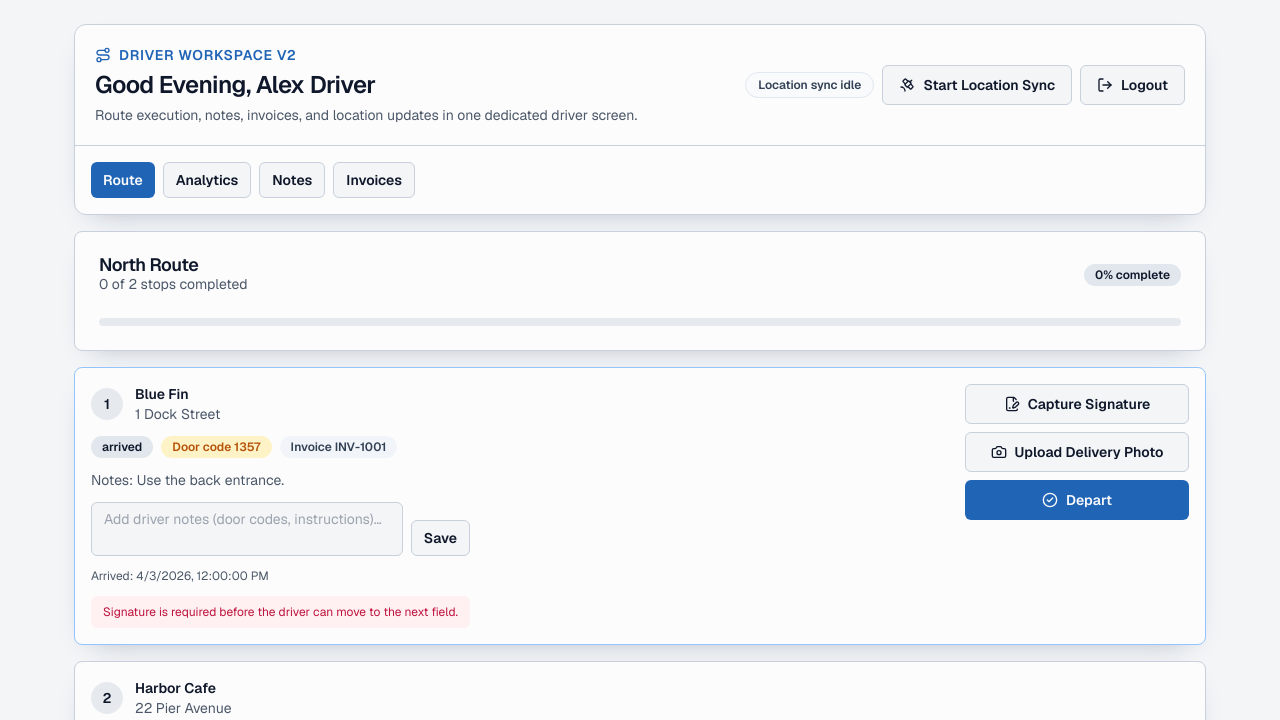
Test: DriverPage › requires a signature before departure when company settings enforce it
Expected: the heading "North Route" is shown, [99, 253, 198, 276]
Click the button "Depart" at (1077, 500), box [965, 480, 1189, 520]
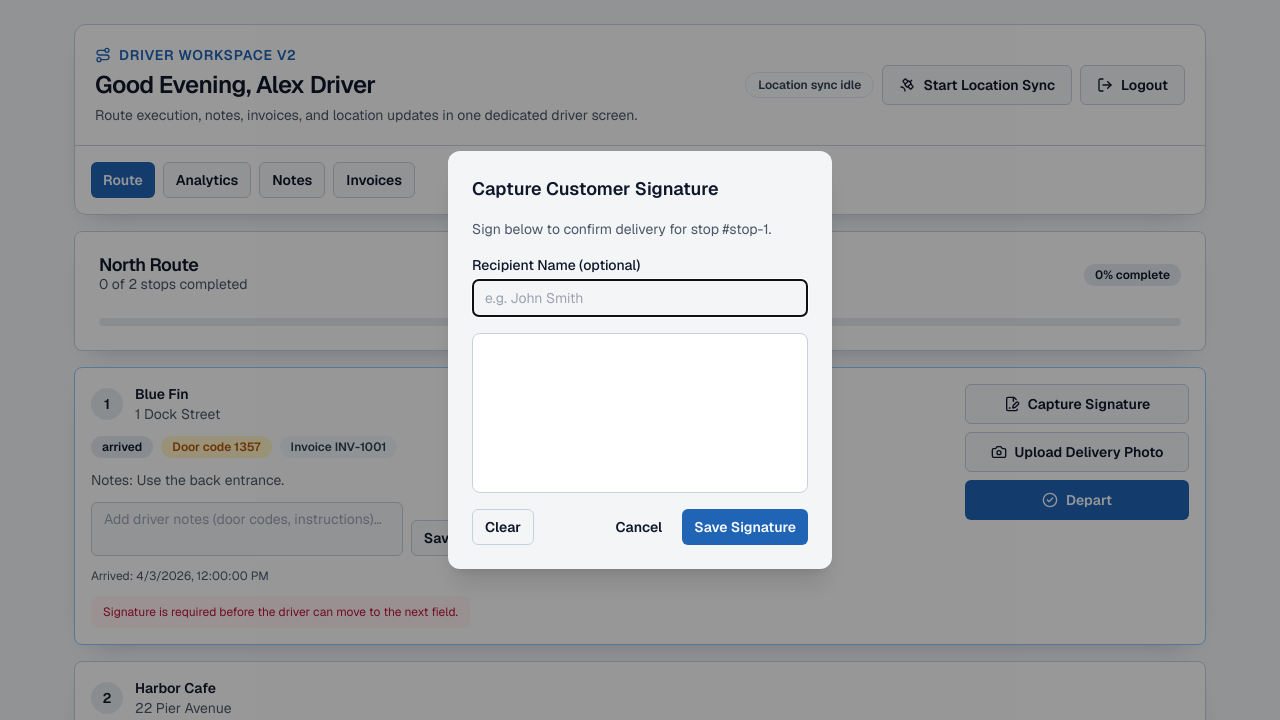
Expected: the heading "Capture Customer Signature" is shown, [472, 177, 719, 200]
Click the button "Save Signature" at (745, 527), box [682, 509, 808, 545]
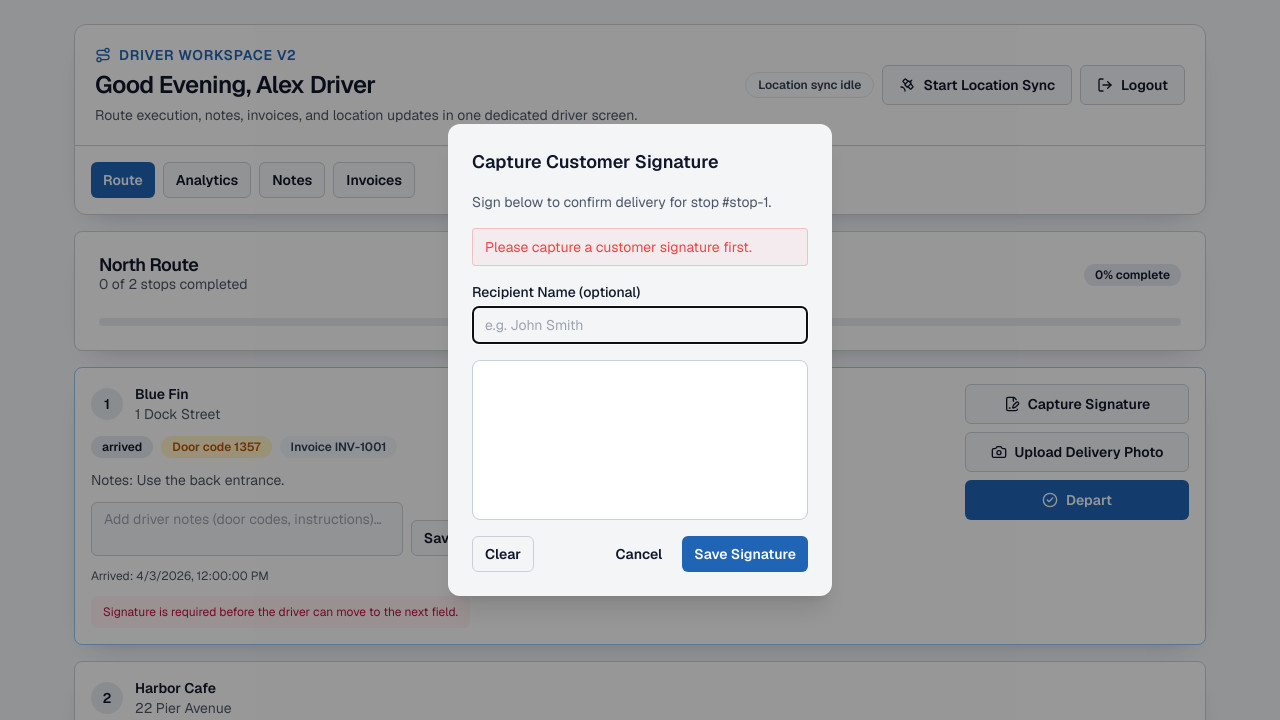
Expected: the text "Please capture a customer signature first." is shown, [472, 228, 808, 266]
